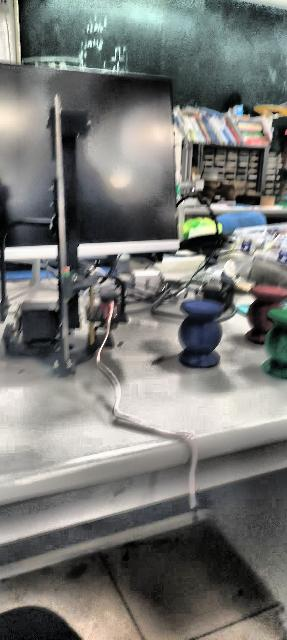blue: (178, 298, 224, 368)
green: (265, 308, 287, 378)
red: (247, 285, 287, 348)
